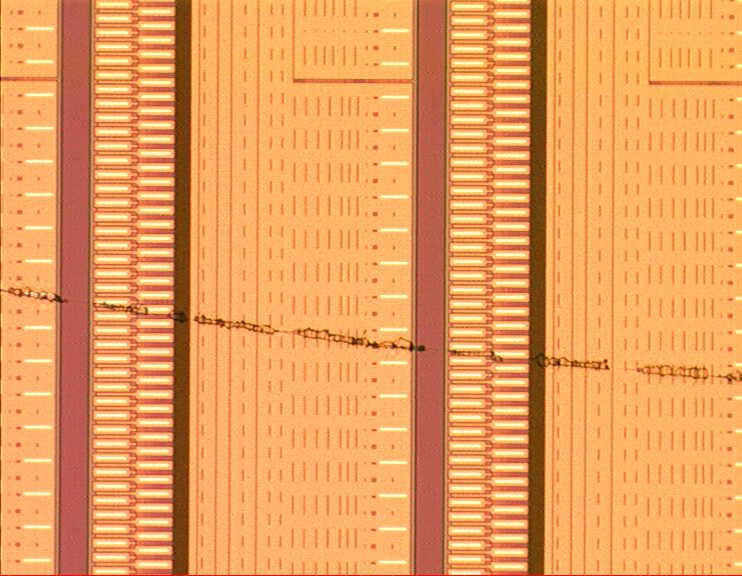SCRATCH: (1, 274, 742, 393)
